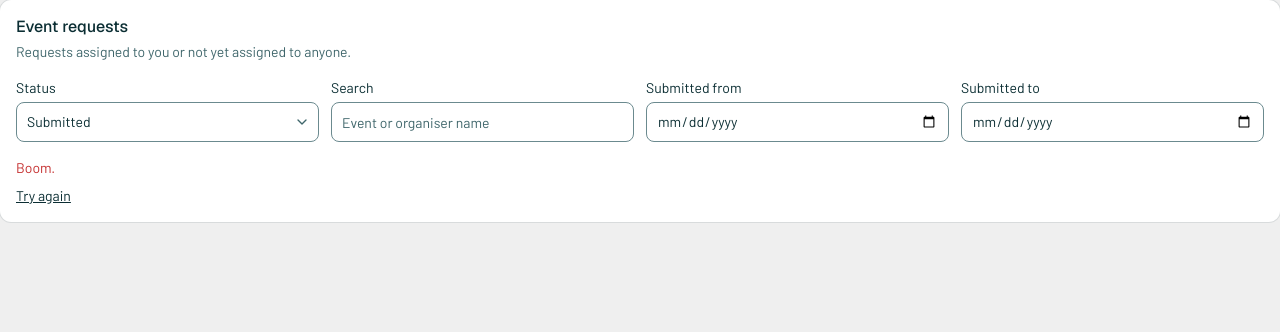
it: SCRUM-22/AC1 — coordinator sees submitted event requests › shows the error with a retry that loads the list
Expected: the text "Boom." is shown, 16,159 -> 55,176
Click the button "Try again" at (43, 196), box 16,186 -> 71,206
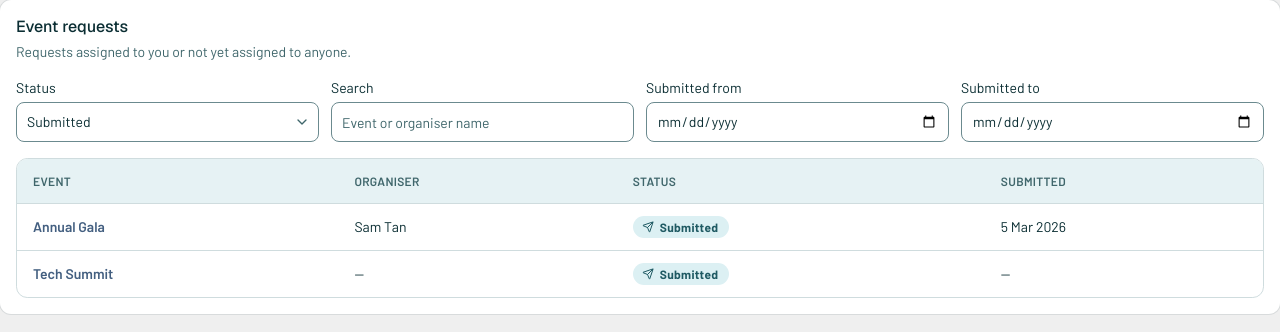
Now the link "Annual Gala" is shown, box 33,218 -> 105,234
